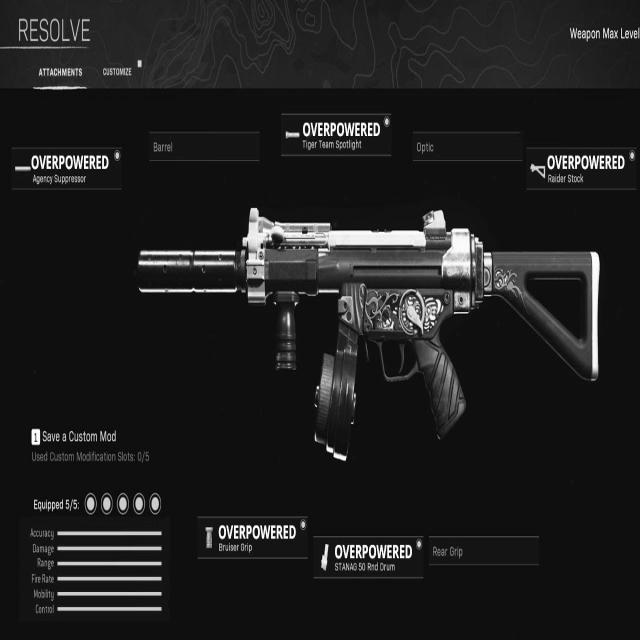Sub-machine-gun: (130, 188, 610, 475)
